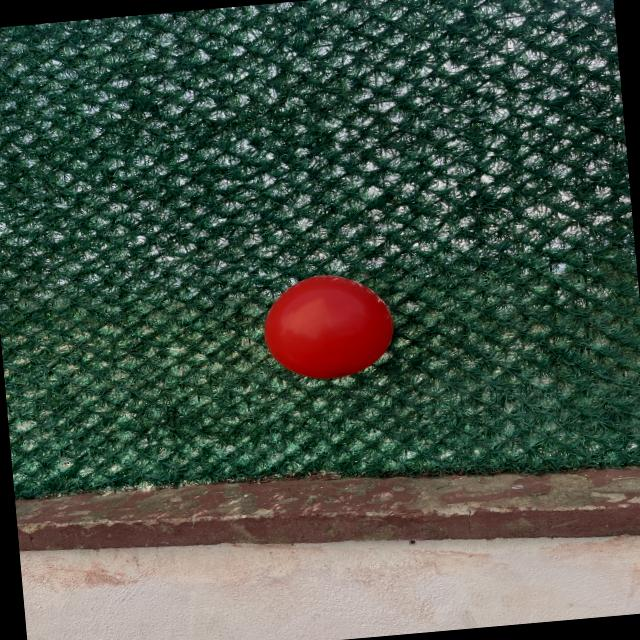balloon: (264, 275, 393, 378)
